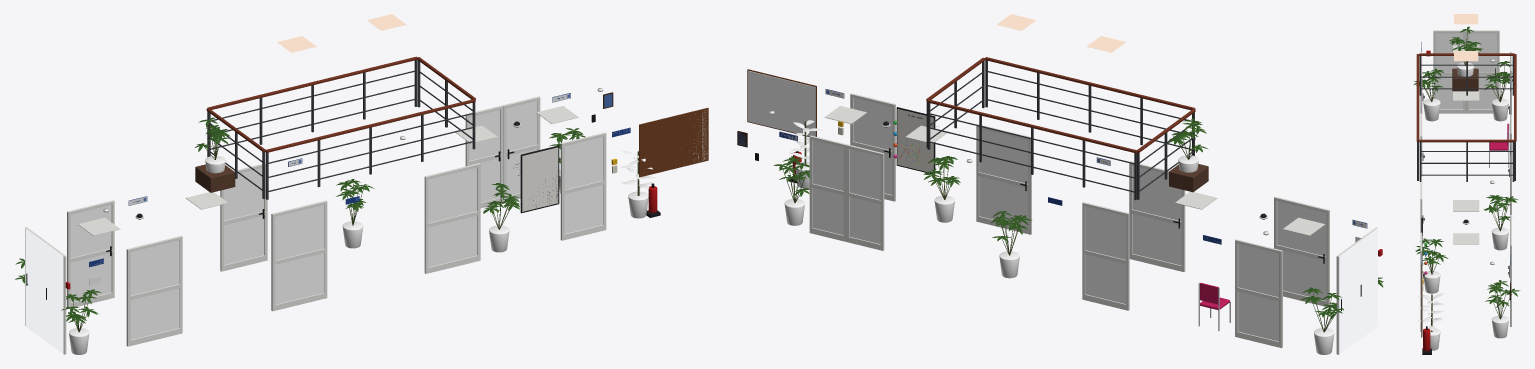
File: corridor_props.glb
3 renders of one model, left to right at view 1: azimuth 30°, elevation 25°; view 2: azimuth 150°, elevation 25°; view 3: azimuth 270°, elevation 25°, orthographic. The views are drawn at different scales.
Parts seen in each view (by area): view 1: DOOR_IoT L_g, DOOR_The P_g, DOOR_Offic_g, EXIT_daylight, DIR_frame, DOOR_Cloud_g, DOOR_KaCyb_g, DOOR_Visua_g, BOARD_fsi_face, DOOR_Smart_b_g, DOOR_Smart_a_g, RAIL_s_hand (+3 smaller); view 2: DOOR_Offic_g, DOOR_IoT L_g, EXIT_daylight, DOOR_The P_g, DOOR_Visua_g, DOOR_KaCyb_g, DIR_glass, DOOR_Smart_a_g, DOOR_Smart_b_g, DOOR_Cloud_g, BOARD_fsi_face, RAIL_n_hand (+5 smaller); view 3: DOOR_exit_b_g, DOOR_exit_a_g, PLANTER_box, PLANT_lobby_leaves, PLANT_door_n_leaves, PLANT_door_s_leaves, RAIL_e_hand, PLANT_mid_n_leaves, RAIL_s_hand, PLANT_mid_n_pot, PLANT_exit_s_pot, PLANT_door_n_pot (+34 smaller).
Boxes of the visible parts, x1,y1,x2,y2 form: DOOR_IoT L_g: (275,205,324,304); DOOR_The P_g: (130,240,179,339); DOOR_Offic_g: (428,167,477,267); EXIT_daylight: (25,228,63,353); DIR_frame: (639,108,708,177); DOOR_Cloud_g: (564,137,603,233); DOOR_KaCyb_g: (224,168,264,264); DOOR_Visua_g: (70,204,111,302); BOARD_fsi_face: (522,147,558,211); DOOR_Smart_b_g: (506,100,537,195); DOOR_Smart_a_g: (469,110,500,202); RAIL_s_hand: (265,99,475,152); DOOR_Offic_g: (979,129,1028,227); DOOR_IoT L_g: (1132,166,1181,265); EXIT_daylight: (1339,228,1377,354); DOOR_The P_g: (1277,201,1326,300); DOOR_Visua_g: (1238,243,1278,341); DOOR_KaCyb_g: (1085,206,1125,303); DIR_glass: (748,70,815,136); DOOR_Smart_a_g: (849,149,880,244); DOOR_Smart_b_g: (812,140,843,235); DOOR_Cloud_g: (853,97,892,194); BOARD_fsi_face: (897,109,933,172); RAIL_n_hand: (927,99,1137,153); DOOR_exit_b_g: (1469,33,1496,109); DOOR_exit_a_g: (1436,33,1463,109); PLANTER_box: (1452,68,1478,91); PLANT_lobby_leaves: (1417,293,1445,330); PLANT_door_n_leaves: (1485,280,1520,307); PLANT_door_s_leaves: (1415,238,1448,265); RAIL_e_hand: (1419,139,1514,142); PLANT_mid_n_leaves: (1483,195,1517,222); RAIL_s_hand: (1416,54,1419,141); PLANT_mid_n_pot: (1491,227,1508,250); PLANT_exit_s_pot: (1423,98,1440,121); PLANT_door_n_pot: (1491,315,1508,338).
Size of the model in its own units: 14.34 by 4.99 by 2.46.
